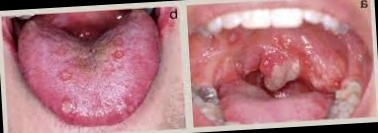Ulcer: (109, 36, 128, 63), (259, 55, 276, 75), (298, 52, 313, 71), (62, 97, 76, 116), (57, 69, 73, 85), (225, 30, 242, 45)
